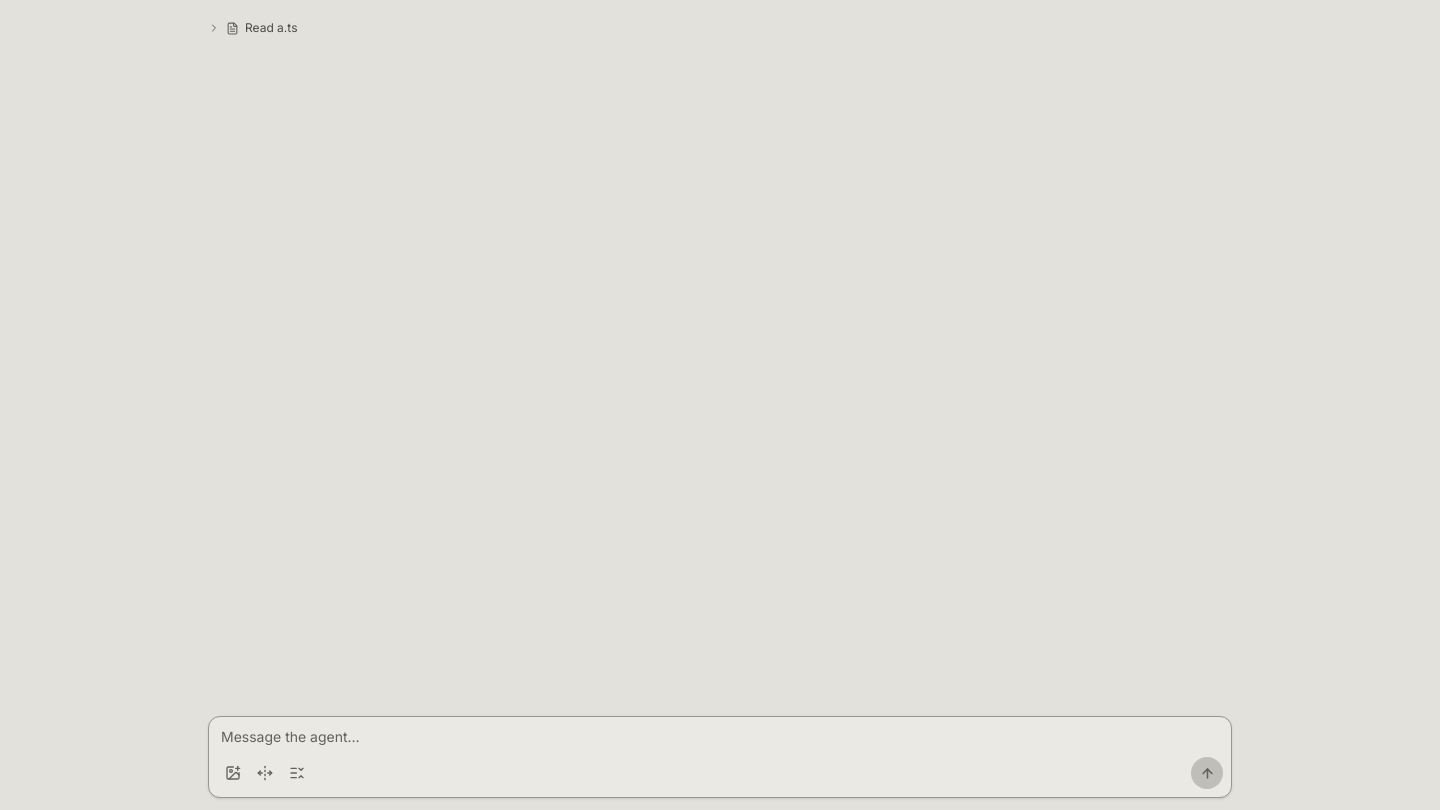
Test case: WorkspaceChat rendering › lifts a read’s line numbers into a gutter, out of the code
Click the button "Read a.ts". click: (271, 28)
box: [202, 16, 1238, 40]
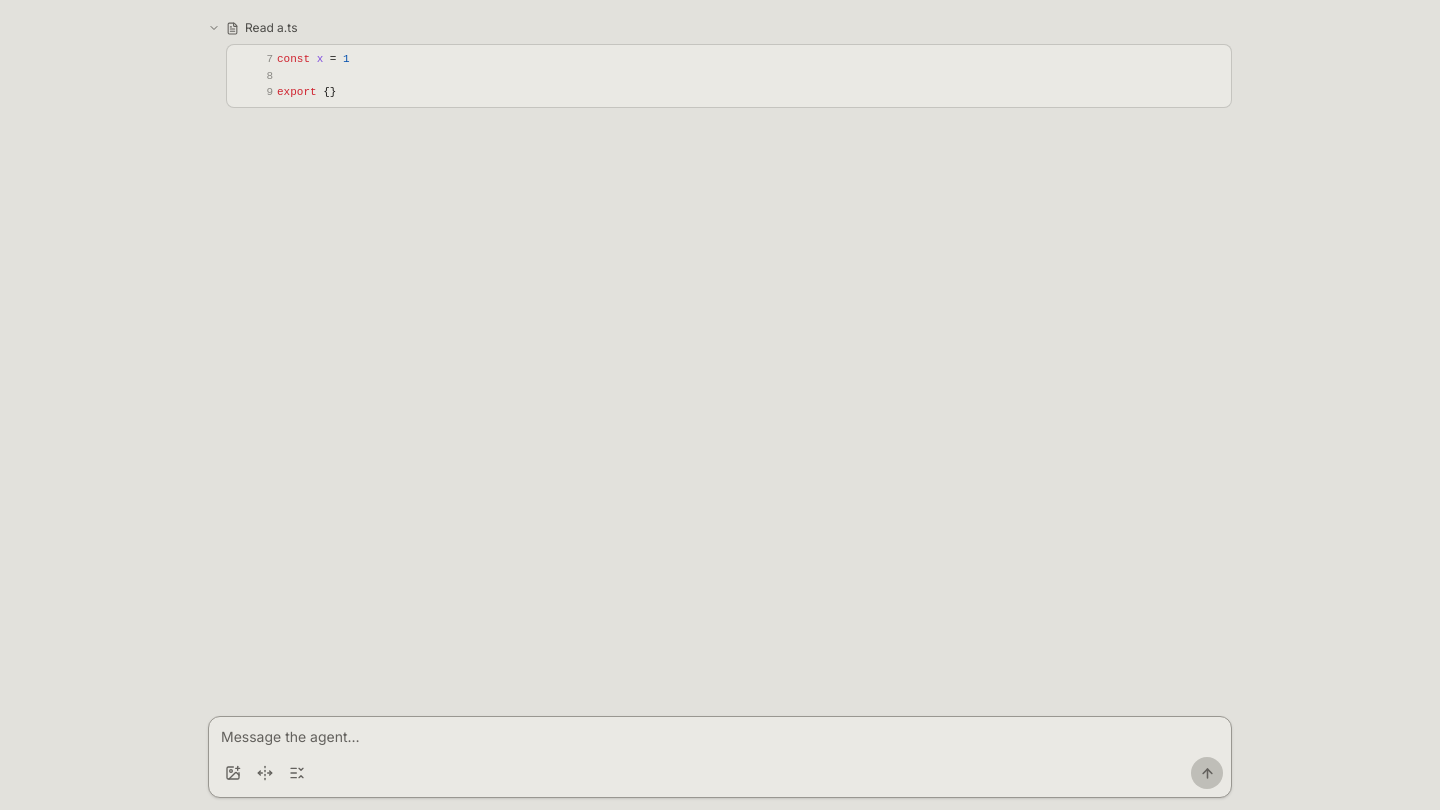
expect the element with class "diff-hl" shows "const x = 1": met, box [266, 53, 350, 98]
expect the element with class "diff-hl" shows "export {}": met, box [266, 53, 350, 98]
